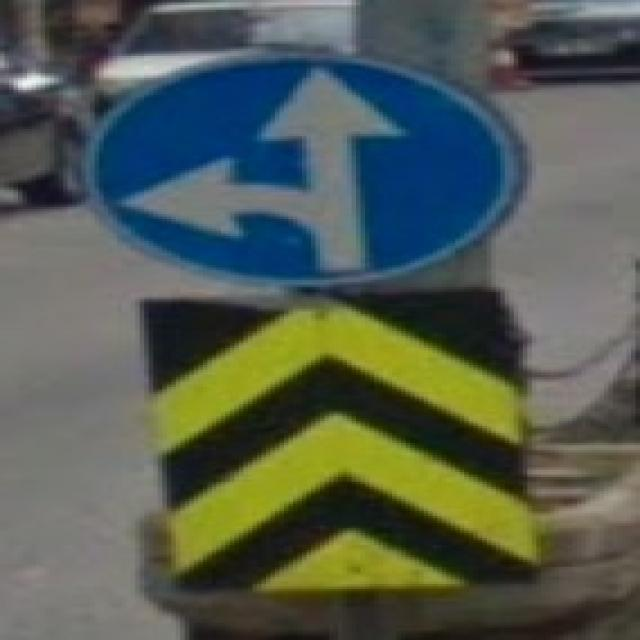Straight or Left: (84, 55, 517, 283)
